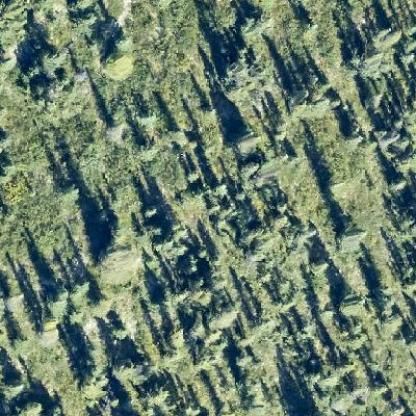tree-top: (216, 49, 276, 112), (90, 232, 148, 284), (336, 126, 378, 168), (291, 81, 332, 121), (74, 361, 113, 400), (204, 294, 244, 332), (32, 42, 75, 74), (202, 2, 241, 34), (348, 45, 386, 77), (229, 128, 265, 160), (98, 51, 136, 81), (105, 356, 144, 382), (335, 223, 366, 254), (44, 284, 70, 318), (335, 288, 365, 317), (372, 22, 402, 51), (0, 0, 28, 30), (0, 372, 28, 400), (0, 288, 28, 314), (164, 322, 188, 352), (330, 387, 353, 415), (0, 46, 23, 68), (361, 90, 386, 110), (310, 254, 329, 277)
